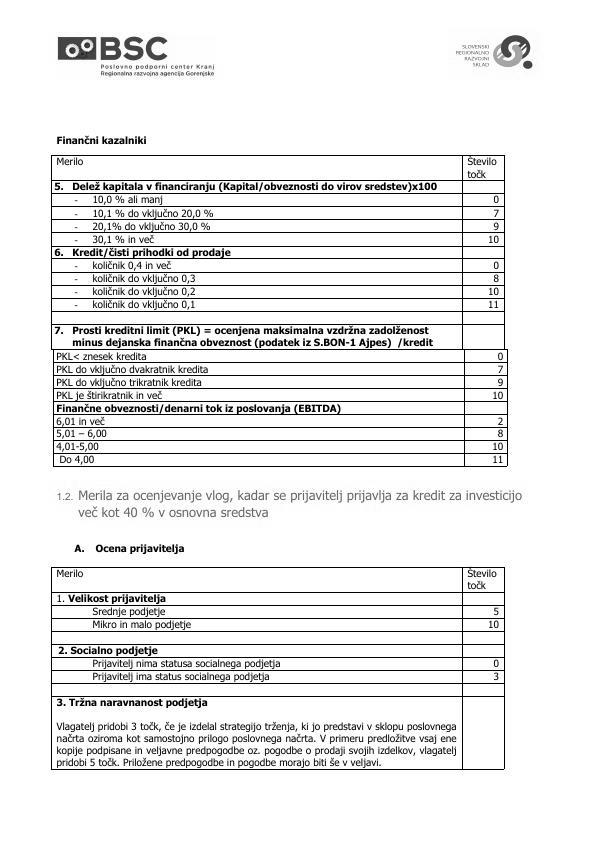table: (49, 153, 510, 470), (48, 565, 508, 773)
text: (57, 488, 526, 522), (74, 543, 189, 557), (55, 134, 151, 147)
